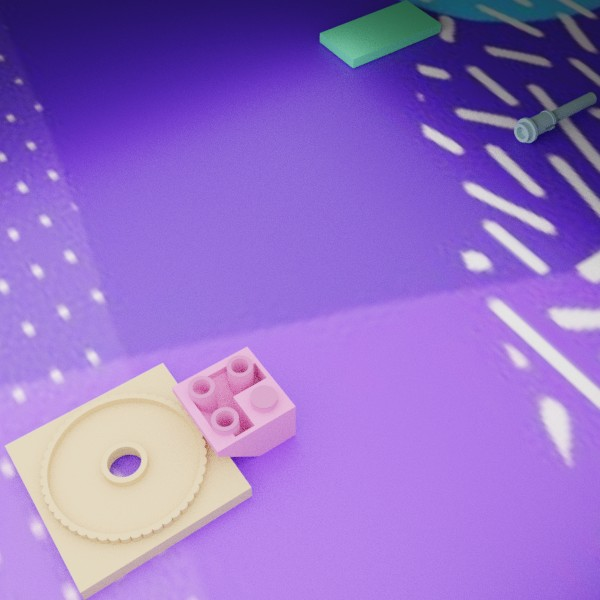lego: (4, 363, 252, 600), (171, 346, 295, 456), (319, 0, 441, 68), (514, 92, 596, 143)
